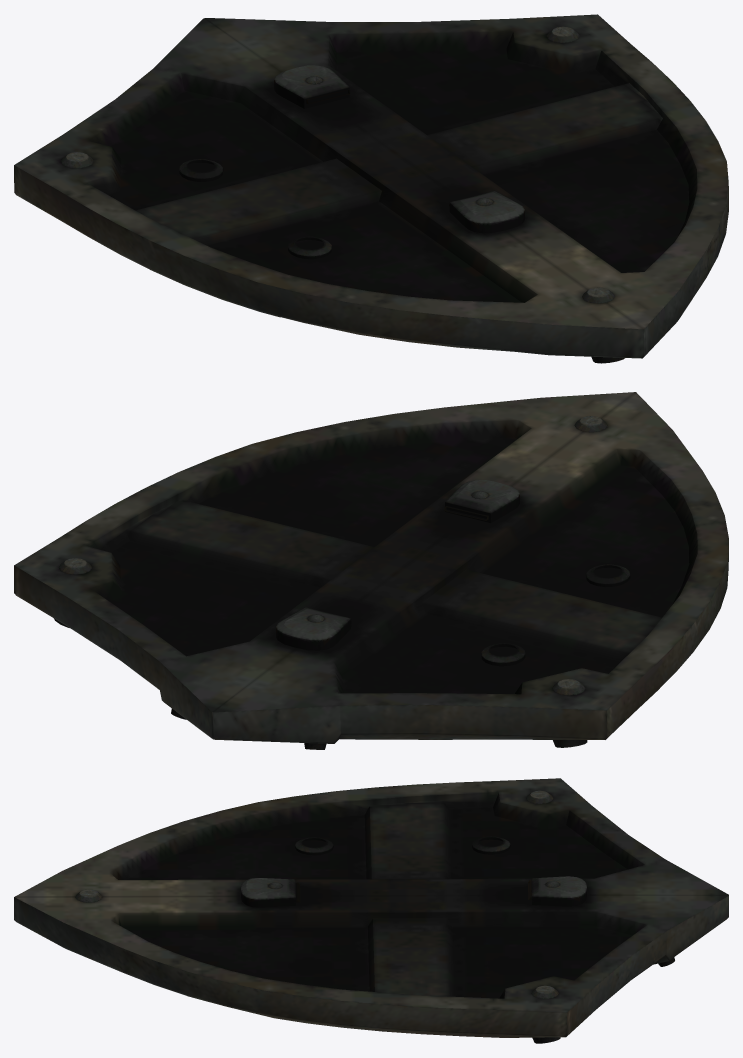
Rendered from board-lod0.glb.
The picture shows the model from 3 angles, top to bottom: view 1: azimuth 30°, elevation 25°; view 2: azimuth 150°, elevation 25°; view 3: azimuth 270°, elevation 25°; orthographic projection. The views are drawn at different scales.
Parts seen in each view (by area): view 1: model; view 2: model; view 3: model.
Part boxes in pixels (left/top/right/bottom): model: left=14, top=14, right=728, bottom=363; model: left=14, top=392, right=728, bottom=749; model: left=14, top=778, right=728, bottom=1043.
Size of the model in its own units: 1.76 by 0.3702 by 2.24.
Materials: 1 (1 with a texture image).
